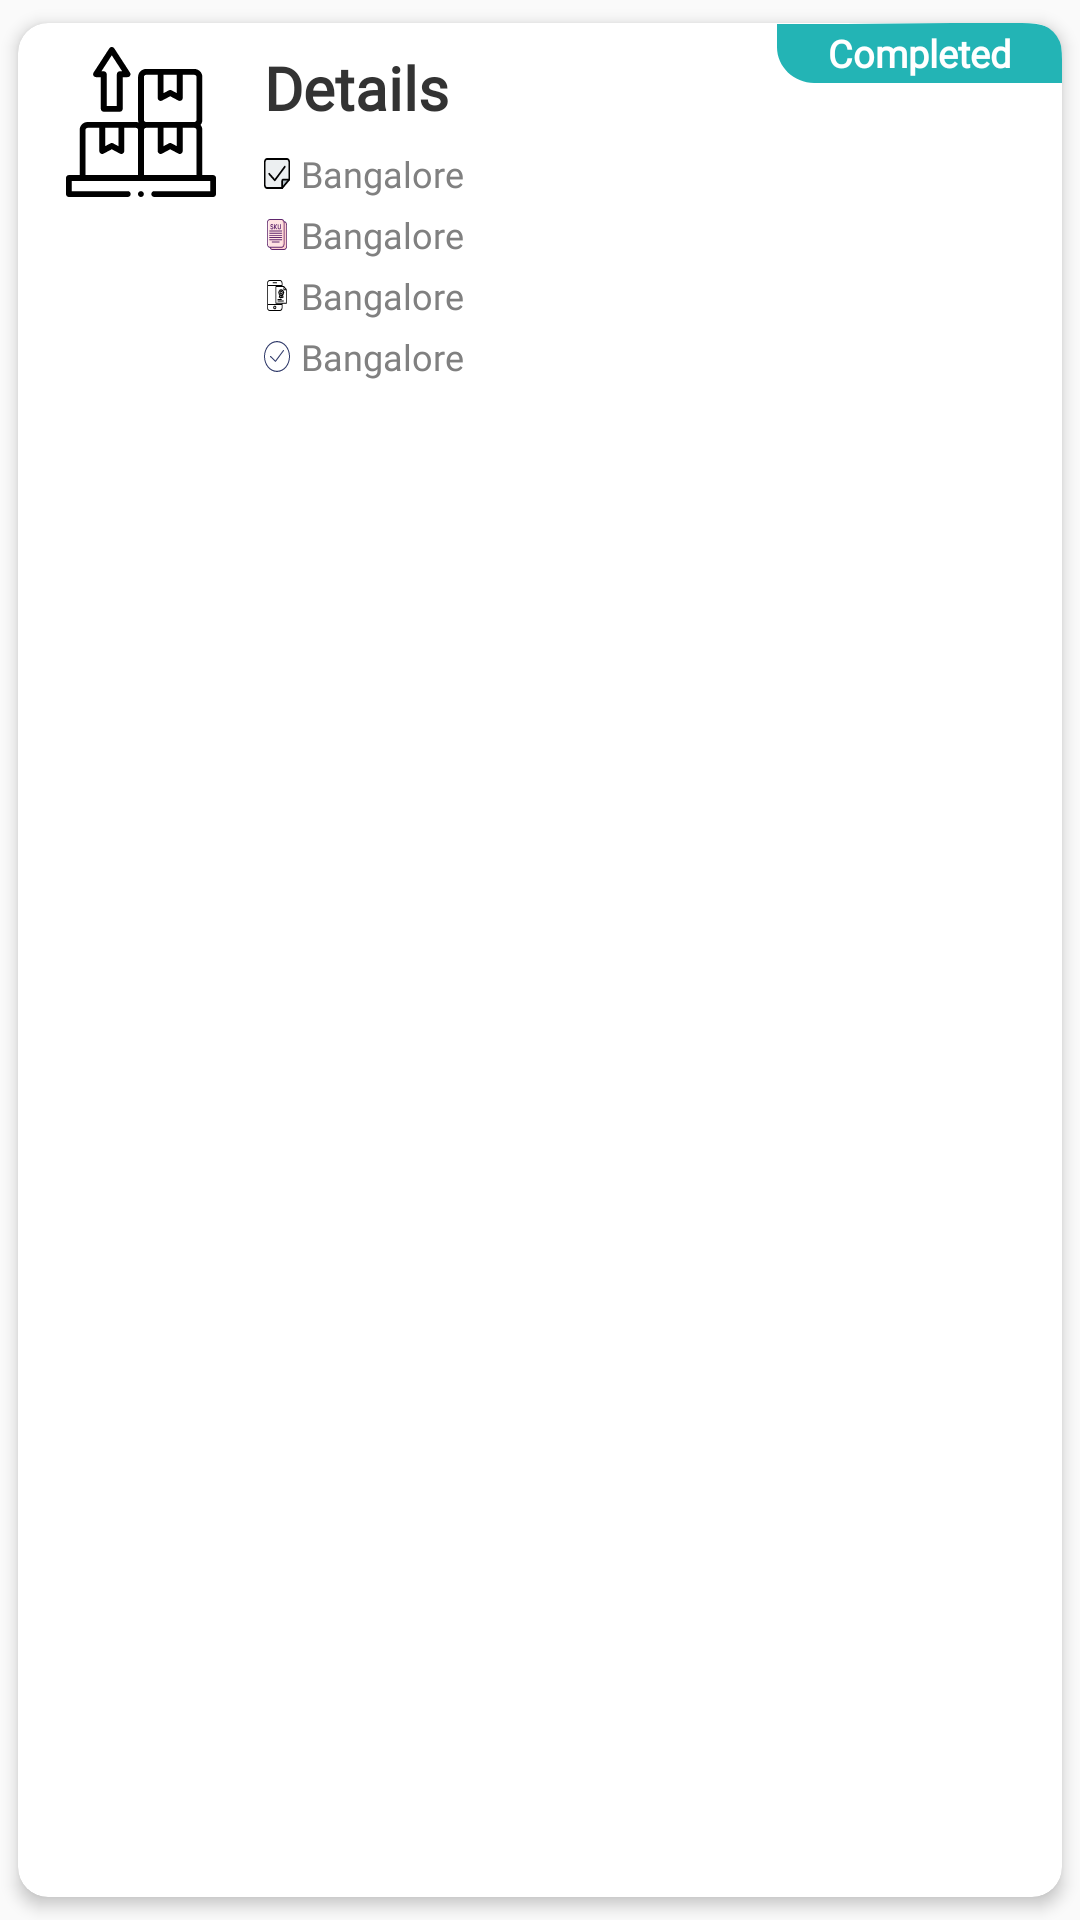

Screen size 1080x1920. Icon name, then its center in pixels as (x,y):
pallet: (141,122)
success: (277,356)
